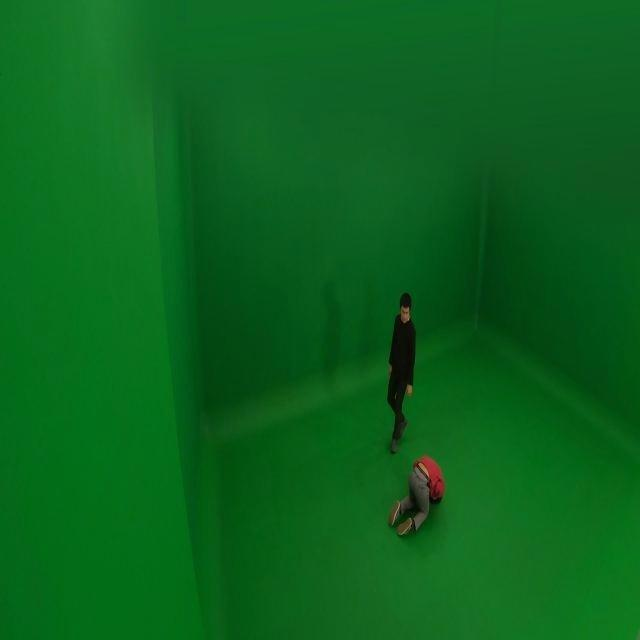fight: (381, 290, 418, 454), (379, 454, 452, 536)
